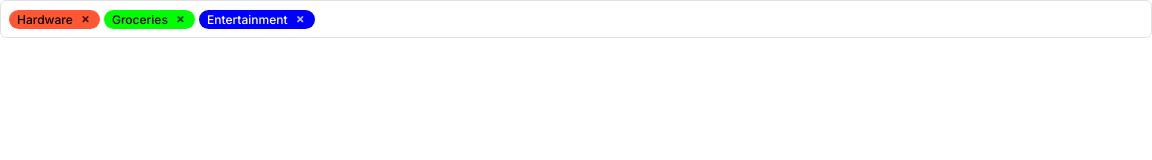
TagSelector component › shows "No more tags available" when all tags are selected
This screenshot has width=1152, height=160.
Click the dropdown at (576, 19), box [0,0,1151,38]
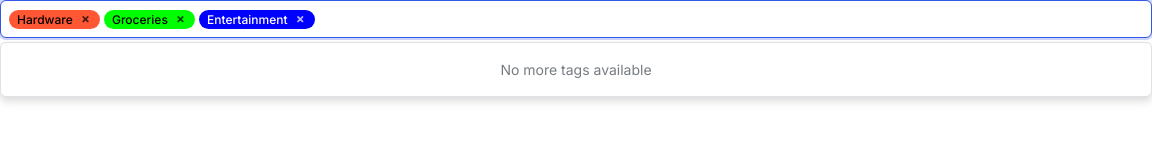
Expected: the text "No more tags available" is shown, [500,61,652,78]
